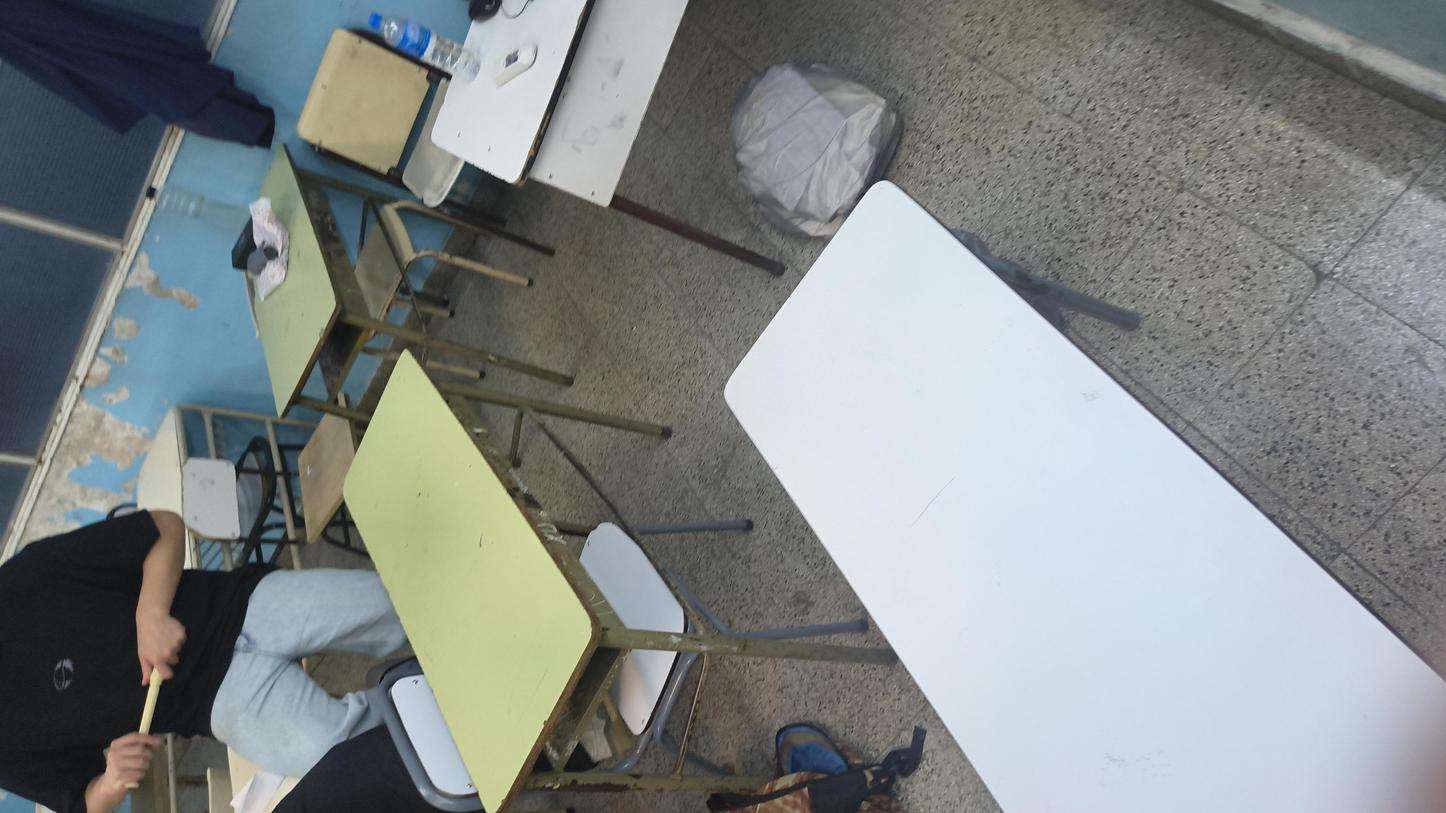Garbage: (1017, 391, 1374, 524)
